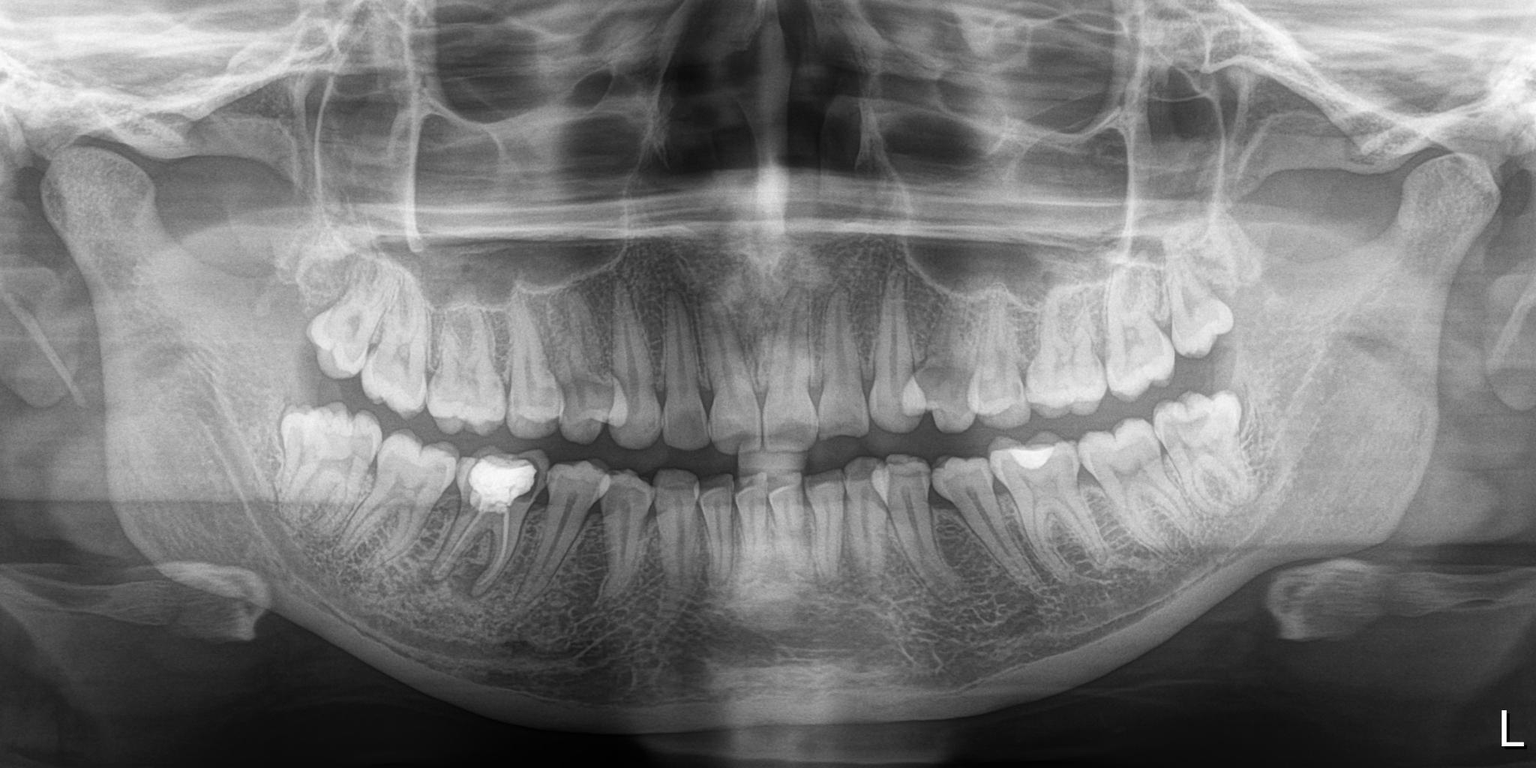Dental Caries: (913, 364, 977, 411)
Endodontically Treated Tooth: (461, 458, 529, 585)
